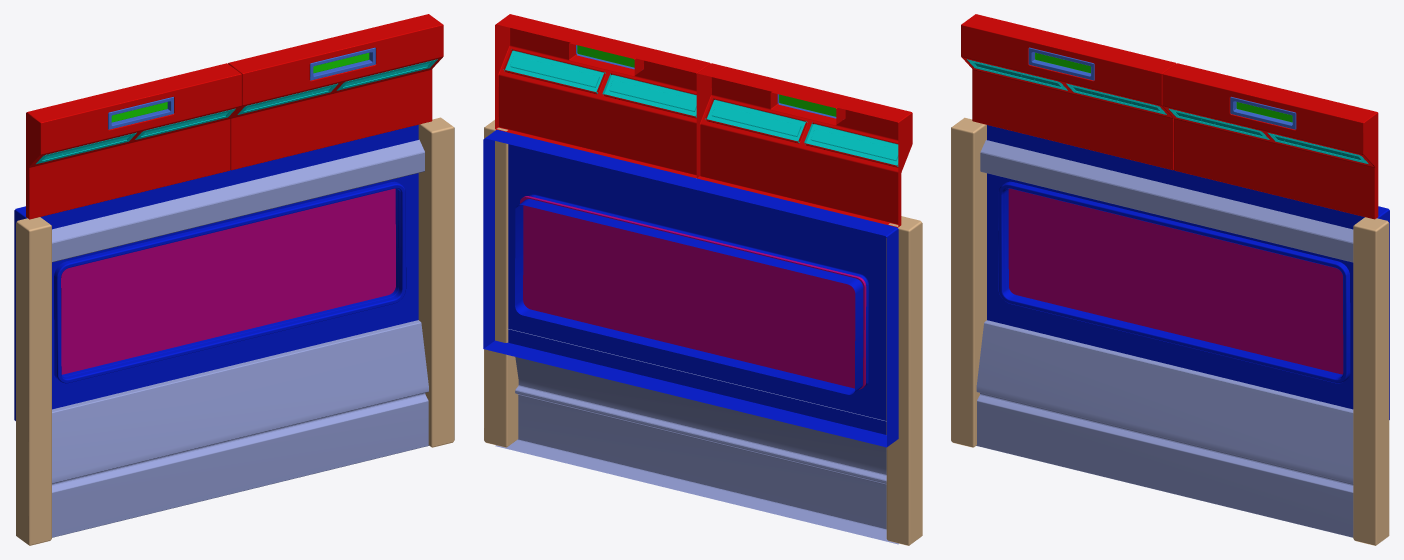
The model's file is Window_C.fbx.
3 views of the same model, side by side, from view 1: azimuth 30°, elevation 25°; view 2: azimuth 150°, elevation 25°; view 3: azimuth 330°, elevation 25° (orthographic).
Visible parts, largest first — view 1: Window_C; view 2: Window_C; view 3: Window_C.
Boxes of the visible parts, bbox=[...] form: Window_C: bbox=[14, 14, 454, 545]; Window_C: bbox=[483, 14, 922, 545]; Window_C: bbox=[951, 14, 1389, 545].
Bounding box in the file's own units: 4.23 × 4 × 0.45.
